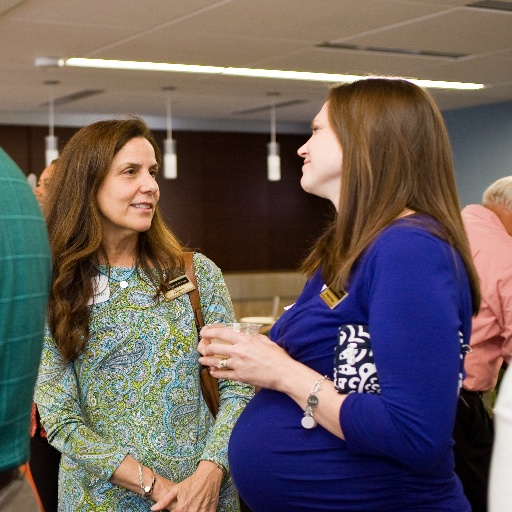hand: (190, 329, 317, 403), (147, 469, 223, 511), (193, 318, 229, 374)
